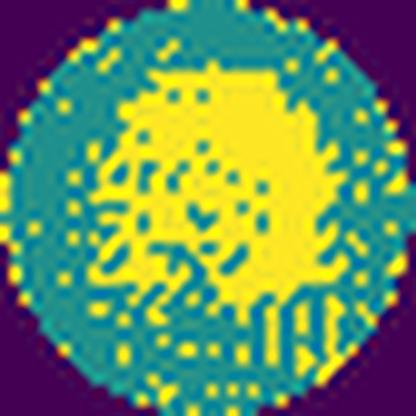Center: (93, 66, 332, 301)
